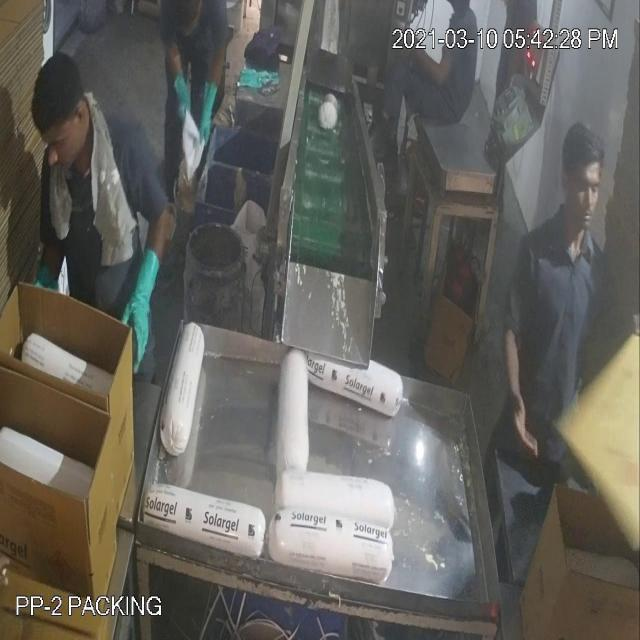No_Gloves: (44, 60, 523, 396)
